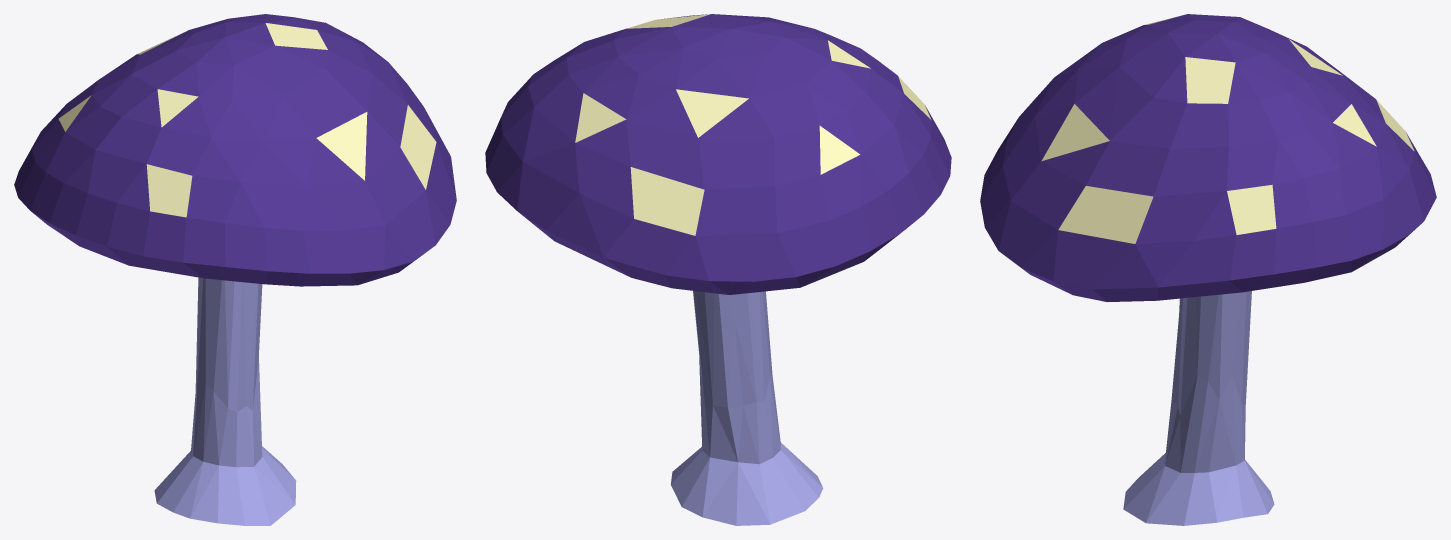
Rendered from mushroom1.fbx.
3 renders of one model, left to right at view 1: azimuth 30°, elevation 25°; view 2: azimuth 150°, elevation 25°; view 3: azimuth 270°, elevation 25°, orthographic. The views are drawn at different scales.
Visible parts, largest first — view 1: mushroom1; view 2: mushroom1; view 3: mushroom1.
Boxes of the visible parts, <box> form: mushroom1: <box>14,14,456,525</box>; mushroom1: <box>485,14,951,525</box>; mushroom1: <box>980,14,1436,525</box>.
Size of the model in its own units: 173 by 195 by 170.
